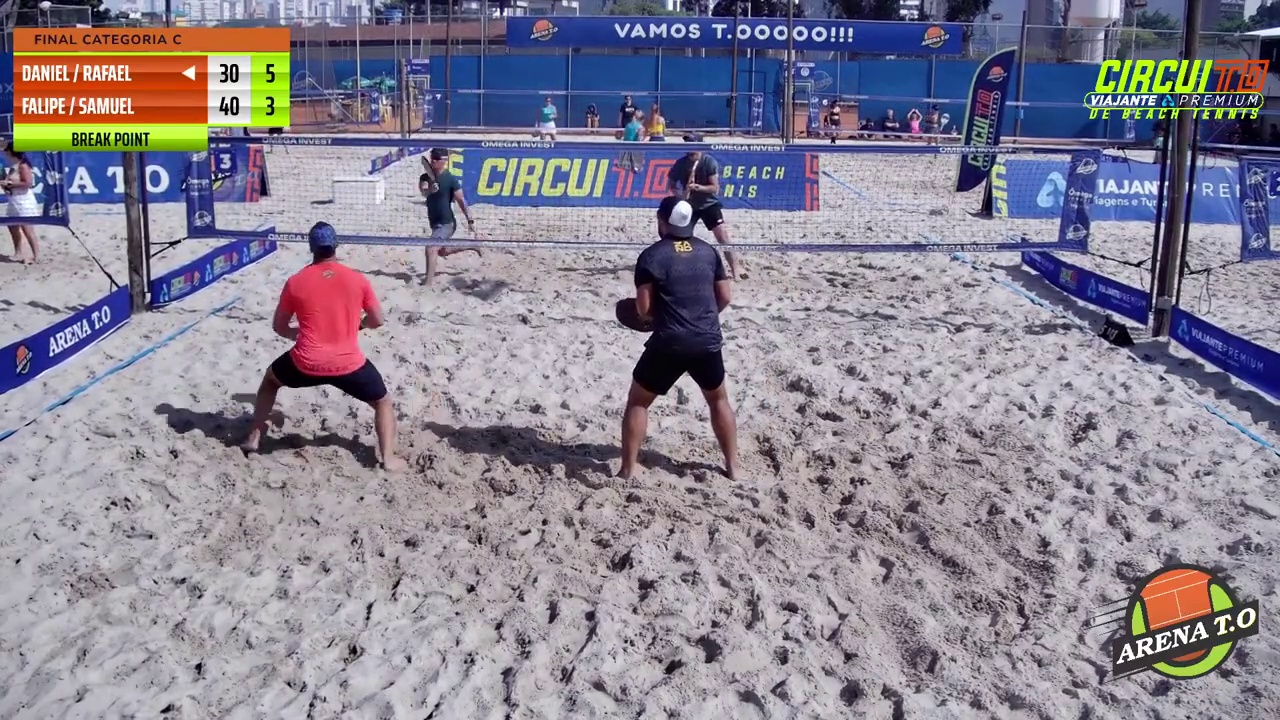court_line: (535, 0, 671, 478), (377, 0, 501, 401), (455, 0, 579, 395)
